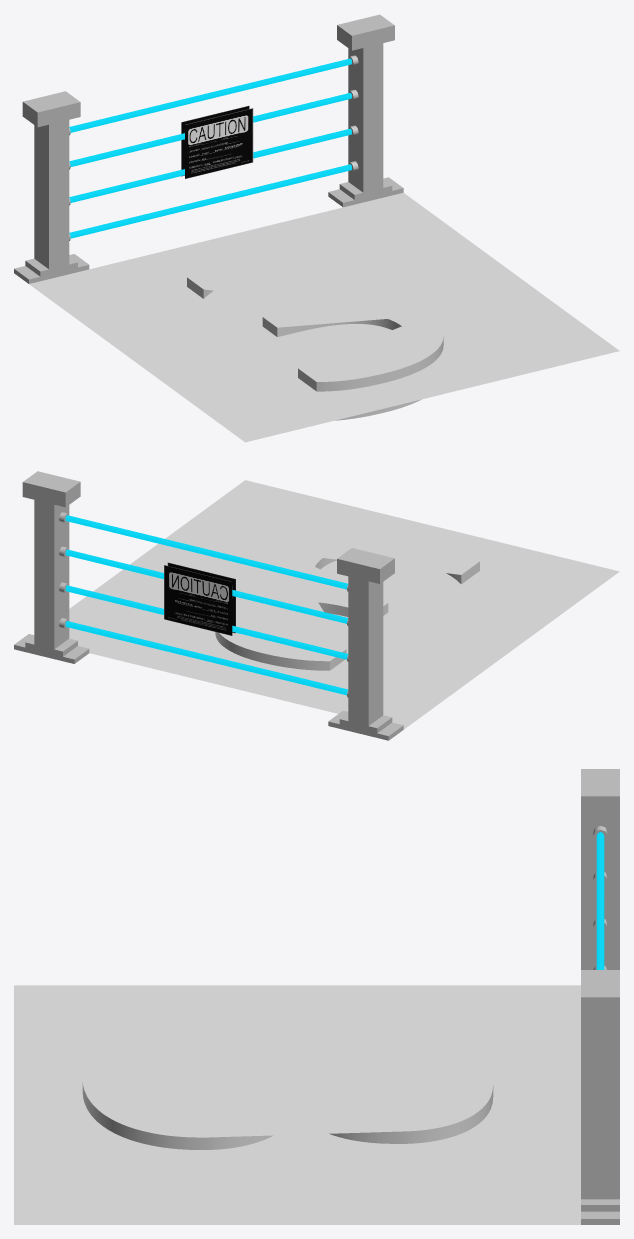
The model's file is Barrier_03.fbx.
3 views of the same model, one above another, from view 1: azimuth 30°, elevation 25°; view 2: azimuth 150°, elevation 25°; view 3: azimuth 270°, elevation 25° (orthographic). The views are drawn at different scales.
Visible parts, largest first — view 1: Floor_Tile, Text_Spline, Barrier_03, Laser_Blue, Caution_Sign_2; view 2: Floor_Tile, Barrier_03, Text_Spline, Laser_Blue, Caution_Sign, Caution_Sign_2; view 3: Floor_Tile, Text_Spline, Barrier_03, Laser_Blue.
Boxes of the visible parts, bbox=[...] form: Floor_Tile: bbox=[29, 192, 619, 442]; Text_Spline: bbox=[187, 250, 443, 420]; Barrier_03: bbox=[14, 14, 403, 283]; Laser_Blue: bbox=[69, 58, 351, 238]; Caution_Sign_2: bbox=[185, 108, 253, 178]; Floor_Tile: bbox=[69, 480, 619, 729]; Barrier_03: bbox=[14, 471, 403, 740]; Text_Spline: bbox=[215, 533, 479, 670]; Laser_Blue: bbox=[65, 515, 348, 695]; Caution_Sign: bbox=[164, 565, 232, 635]; Caution_Sign_2: bbox=[167, 562, 235, 633]; Floor_Tile: bbox=[14, 985, 580, 1224]; Text_Spline: bbox=[82, 1040, 493, 1149]; Barrier_03: bbox=[581, 769, 619, 1224]; Laser_Blue: bbox=[596, 832, 604, 969].
Bounding box in the file's own units: 200 × 102 × 214.
